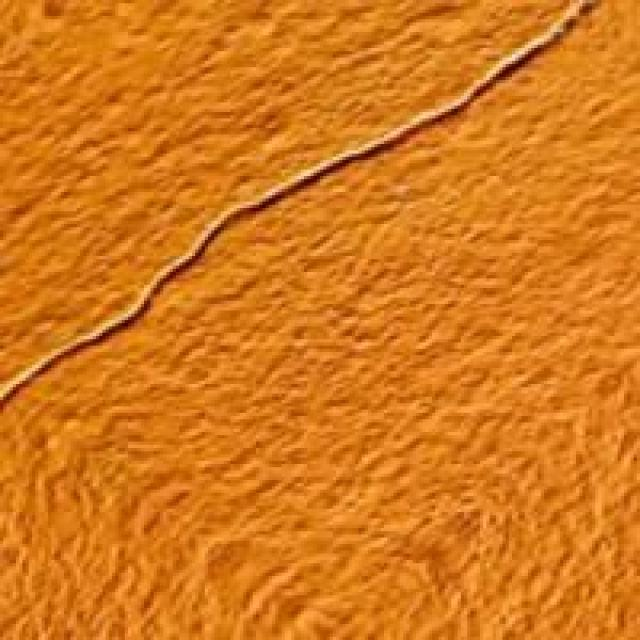crack: (3, 7, 586, 420)
